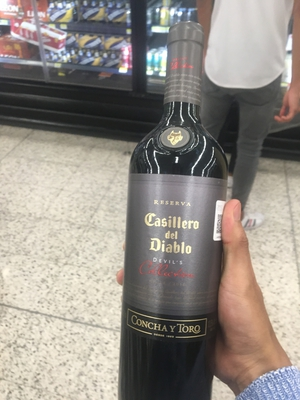casillero del diablo devils collection rojo: (111, 29, 241, 400)
